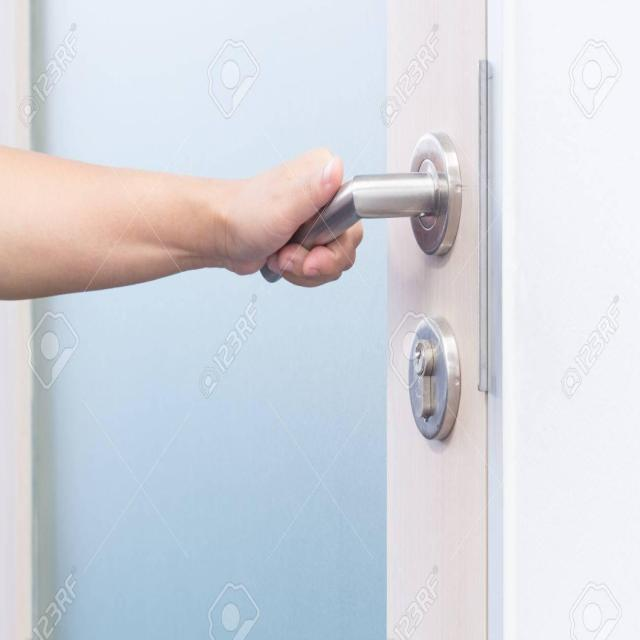doorhandle: (269, 129, 477, 285)
